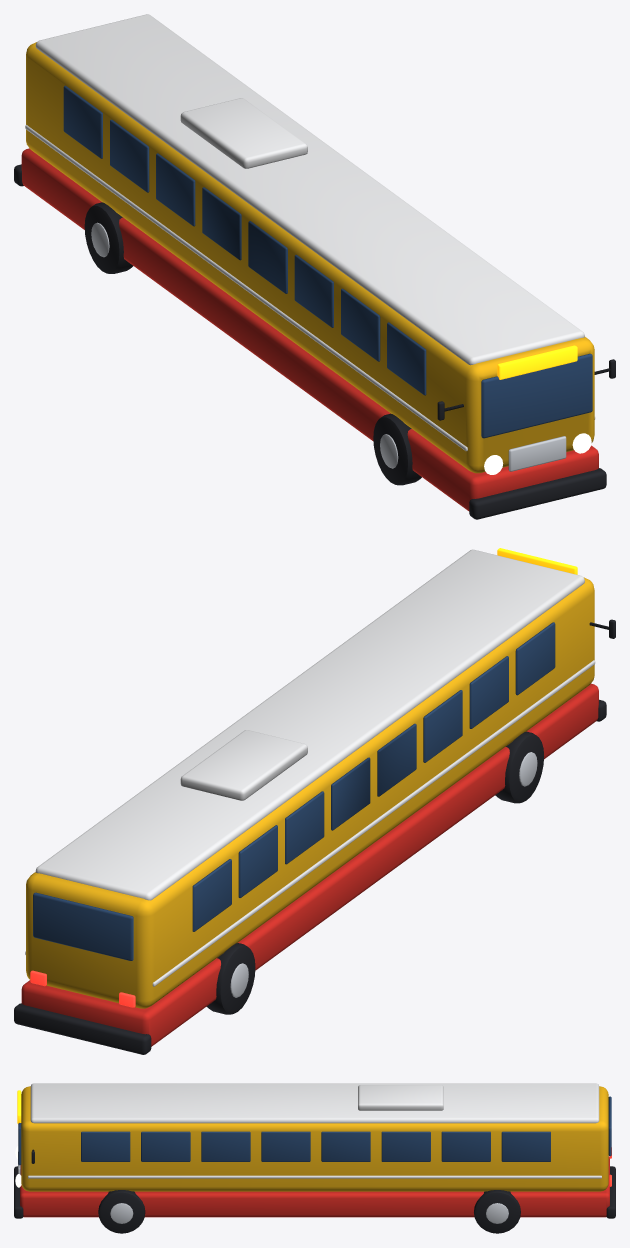
Rendered from bl_bus.glb.
3 renders of one model, top to bottom at view 1: azimuth 30°, elevation 25°; view 2: azimuth 150°, elevation 25°; view 3: azimuth 270°, elevation 25°, orthographic. The views are drawn at different scales.
Parts seen in each view (by area): view 1: bus; view 2: bus; view 3: bus.
Boxes of the visible parts, left/top/right/bottom form: bus: left=14, top=14, right=615, bottom=519; bus: left=14, top=548, right=615, bottom=1054; bus: left=14, top=1083, right=615, bottom=1233.
Bounding box in the file's own units: 2.48 × 2.44 × 11.22.
